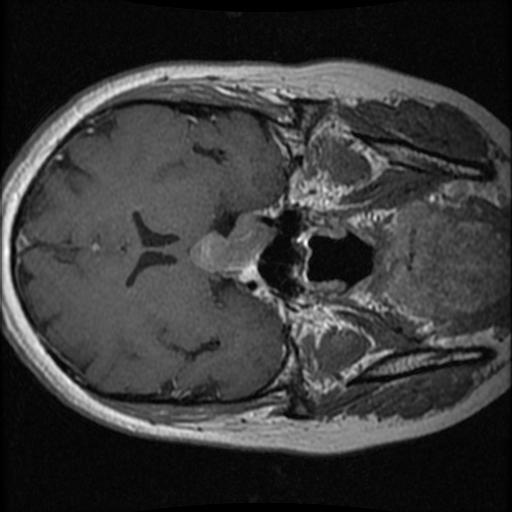pituitary tumour: (190, 214, 275, 282)
